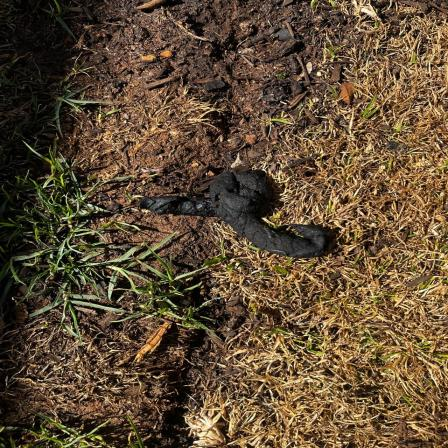dog-poop: (135, 155, 347, 270)
